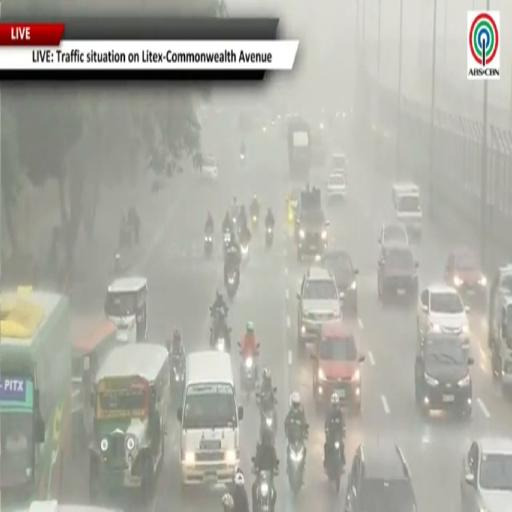bus: (0, 287, 71, 510)
car: (344, 440, 416, 511), (415, 333, 473, 418), (312, 323, 364, 412), (297, 267, 344, 346), (461, 437, 511, 511), (417, 284, 470, 349), (445, 248, 488, 307), (378, 245, 418, 302), (324, 250, 358, 315), (393, 183, 422, 239), (378, 222, 409, 245), (286, 187, 300, 226), (327, 171, 346, 199), (201, 155, 218, 180), (332, 154, 346, 172)
jeepney: (90, 344, 170, 502), (71, 315, 120, 453), (105, 277, 147, 343)
motorcycle: (287, 426, 305, 494), (256, 388, 277, 440), (326, 437, 344, 493), (241, 344, 259, 398), (254, 471, 275, 511), (210, 308, 229, 340), (211, 327, 230, 353), (171, 357, 184, 395), (227, 268, 239, 299), (204, 233, 213, 258), (215, 336, 227, 351), (265, 227, 273, 248), (241, 242, 249, 260), (224, 231, 230, 254), (250, 214, 258, 230), (240, 154, 245, 170)
truck: (489, 265, 511, 392), (295, 187, 329, 261), (288, 117, 311, 177)
